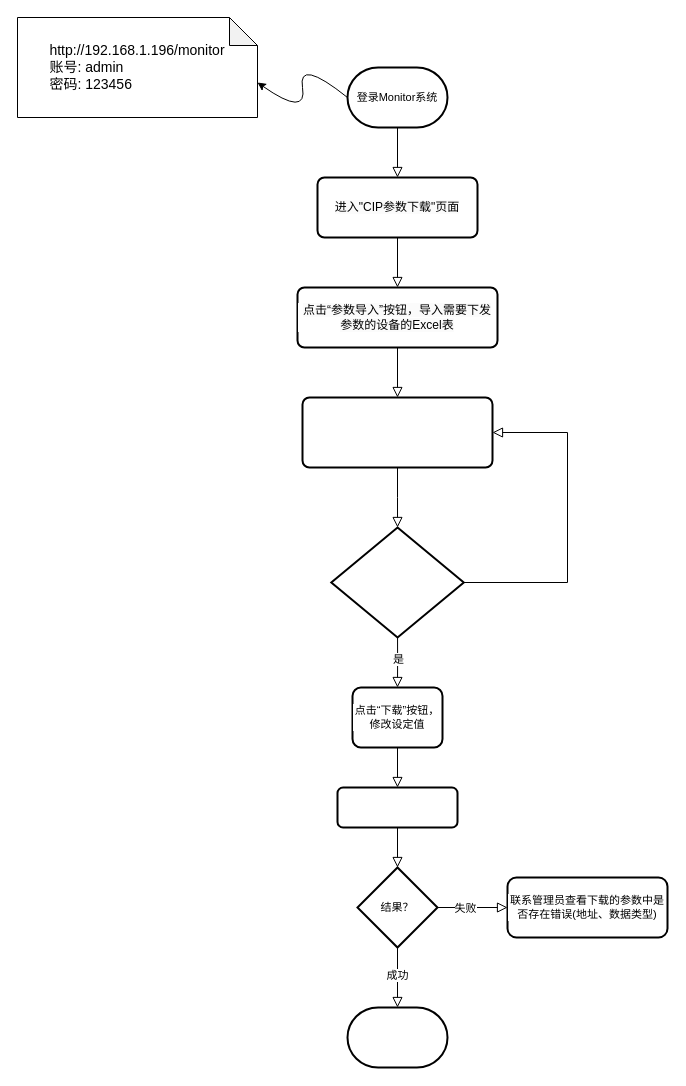
Image size: 686x1086. Some labels were removed from this diagram. The shapes that lost their labels are listed below. From the top down, each one's centre as x and y in pixels, then its label:
point (397, 432): 点击“一键修改”或“差异修改”按钮，修改需要下发的设定值
point (397, 582): 点击“对比”按钮， 查看修改是否无误
point (397, 807): 等待返回结果
point (397, 1037): 结束
